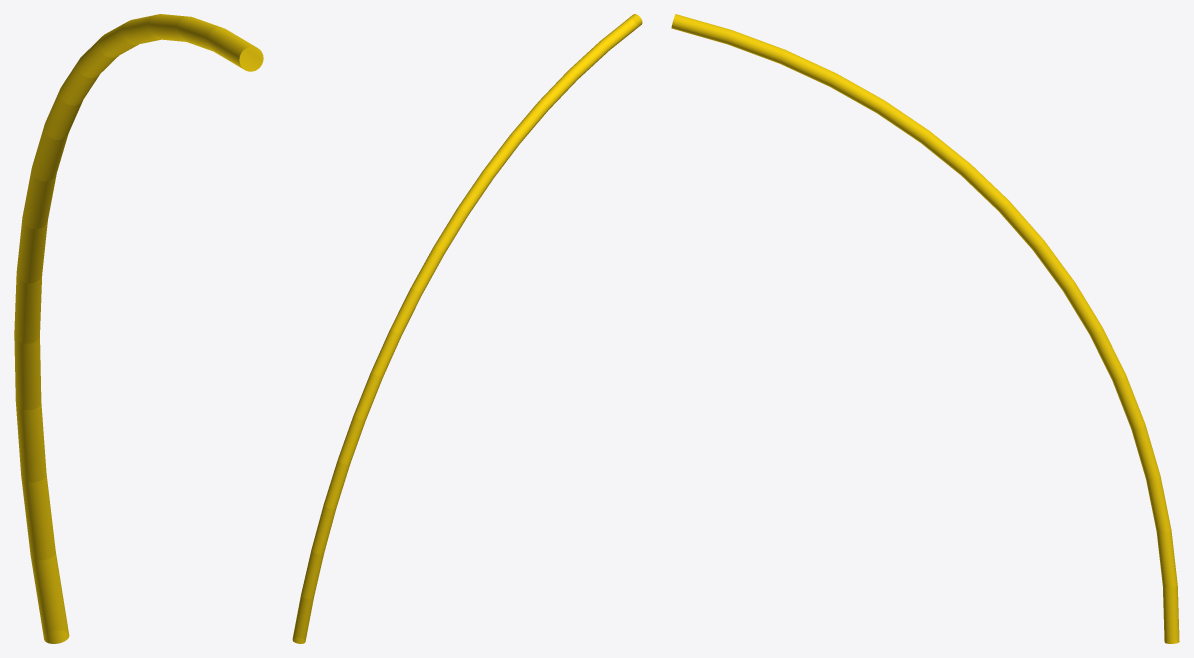
File: Event_420107950_track_19.fbx
3 renders of one model, left to right at view 1: azimuth 30°, elevation 25°; view 2: azimuth 150°, elevation 25°; view 3: azimuth 270°, elevation 25°, orthographic. The views are drawn at different scales.
Parts seen in each view (by area): view 1: Model; view 2: Model; view 3: Model.
Boxes of the visible parts, x1,y1,x2,y2 form: Model: (14, 14, 263, 643); Model: (292, 14, 642, 643); Model: (671, 14, 1179, 643).
Size of the model in its own units: 0.4514 by 1.65 by 1.35.
